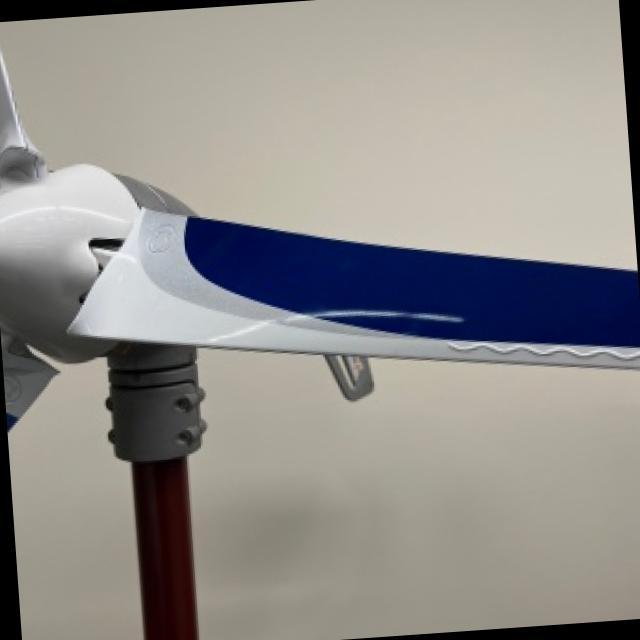healthy: (7, 359, 137, 640)
